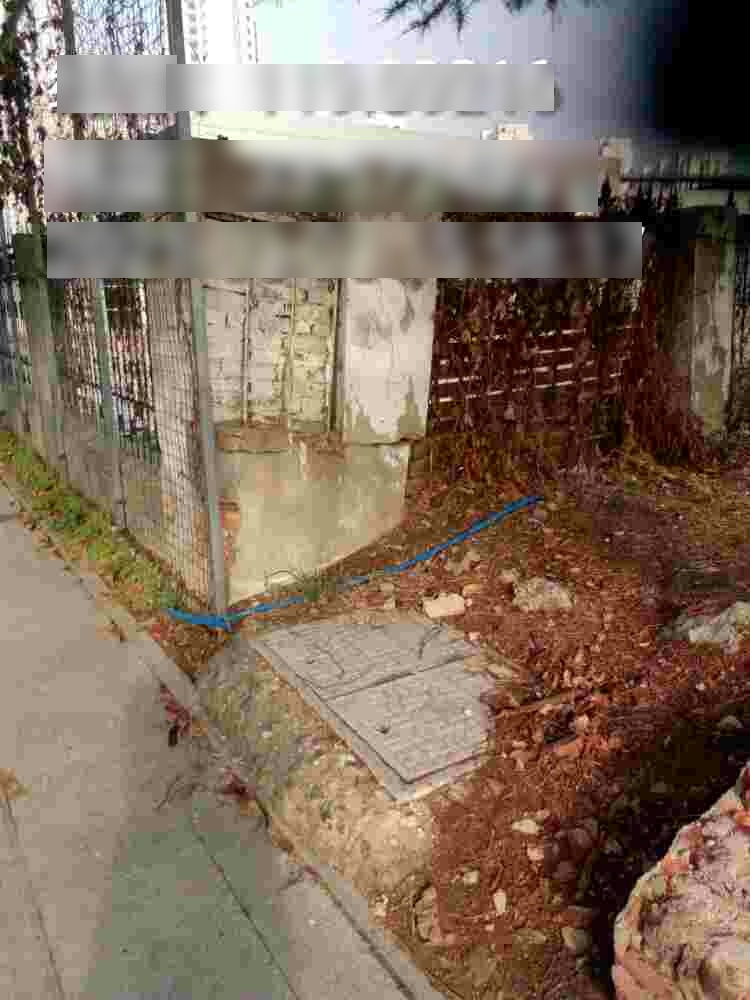good: (252, 601, 547, 803)
